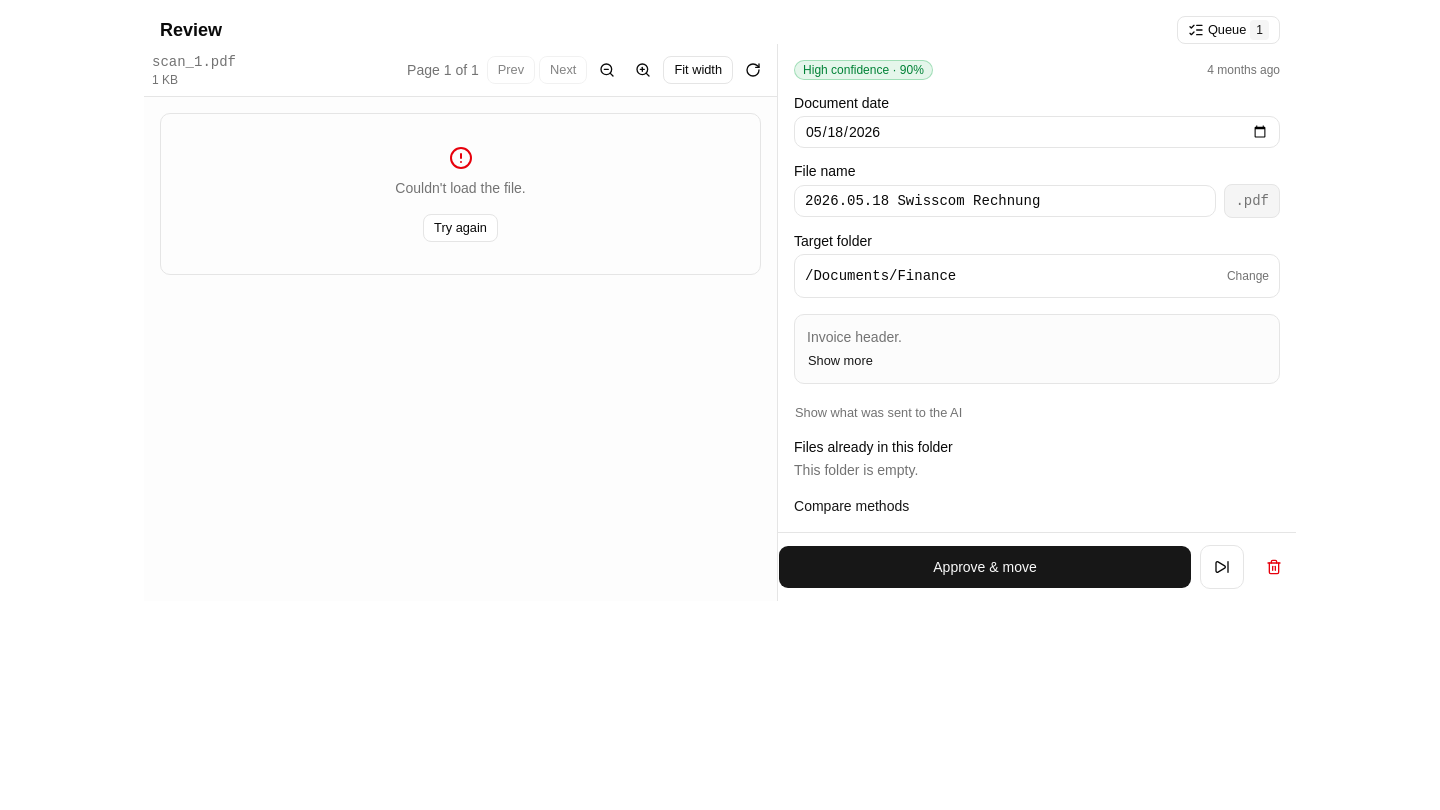
ReviewPage queue overview › fills the review form from the comparison method that was picked
Click the button "Compare methods": click(852, 506) [794,496,909,516]
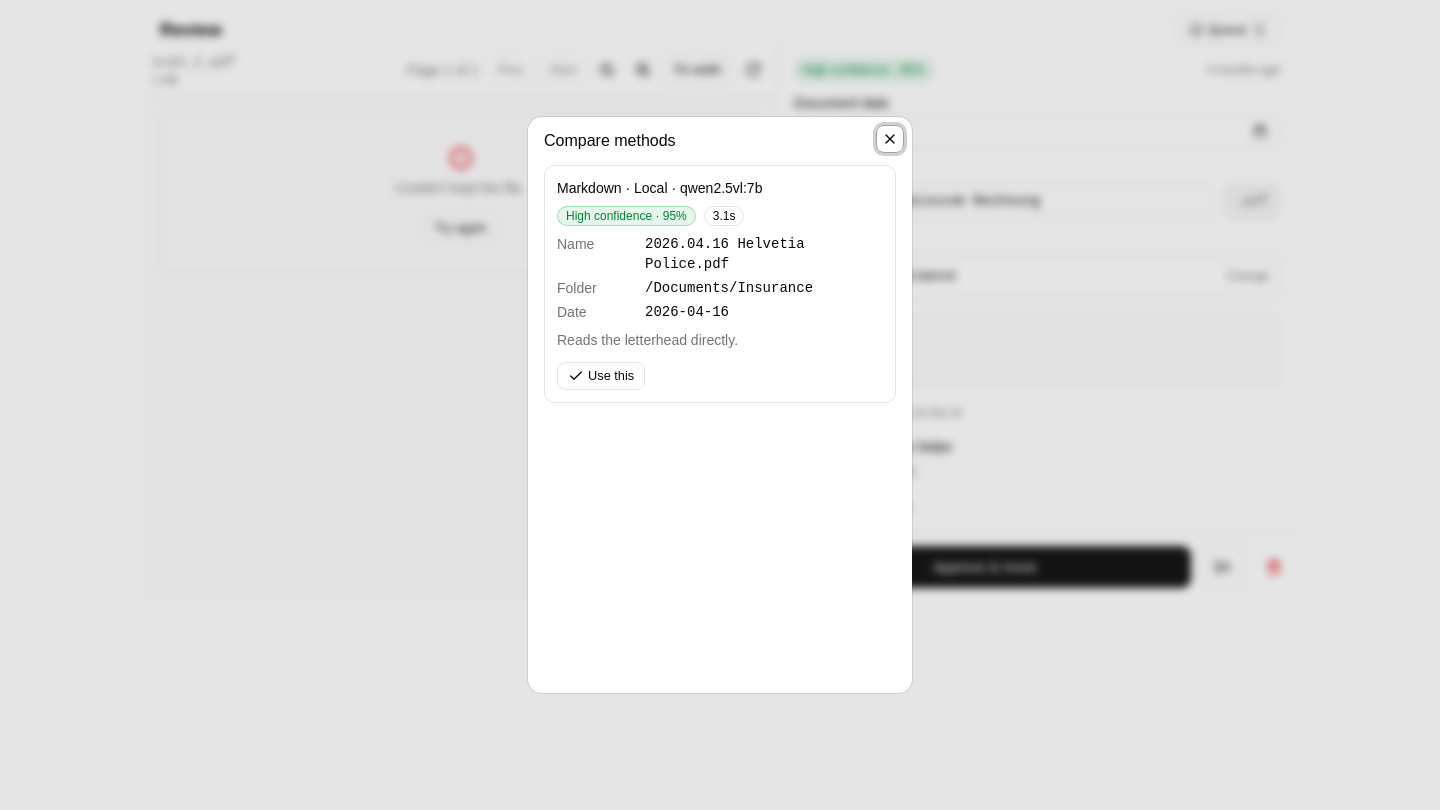
Click the button "Use this": click(601, 376) [557,362,645,390]
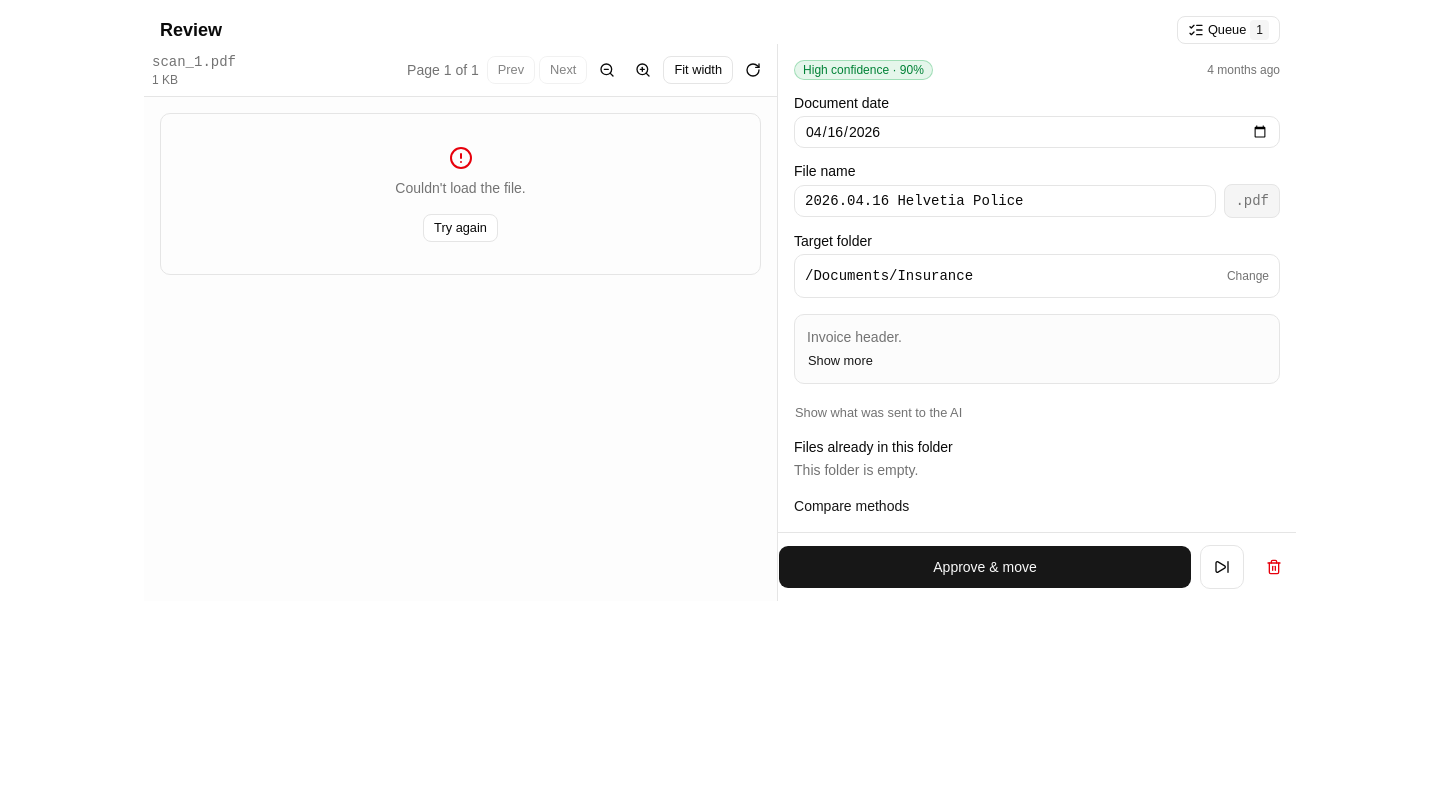
expect the field showing "2026.04.16 Helvetia Police" is shown: met, box [794,185,1216,217]
expect the date field showing "2026-04-16" is shown: met, box [794,116,1280,148]
